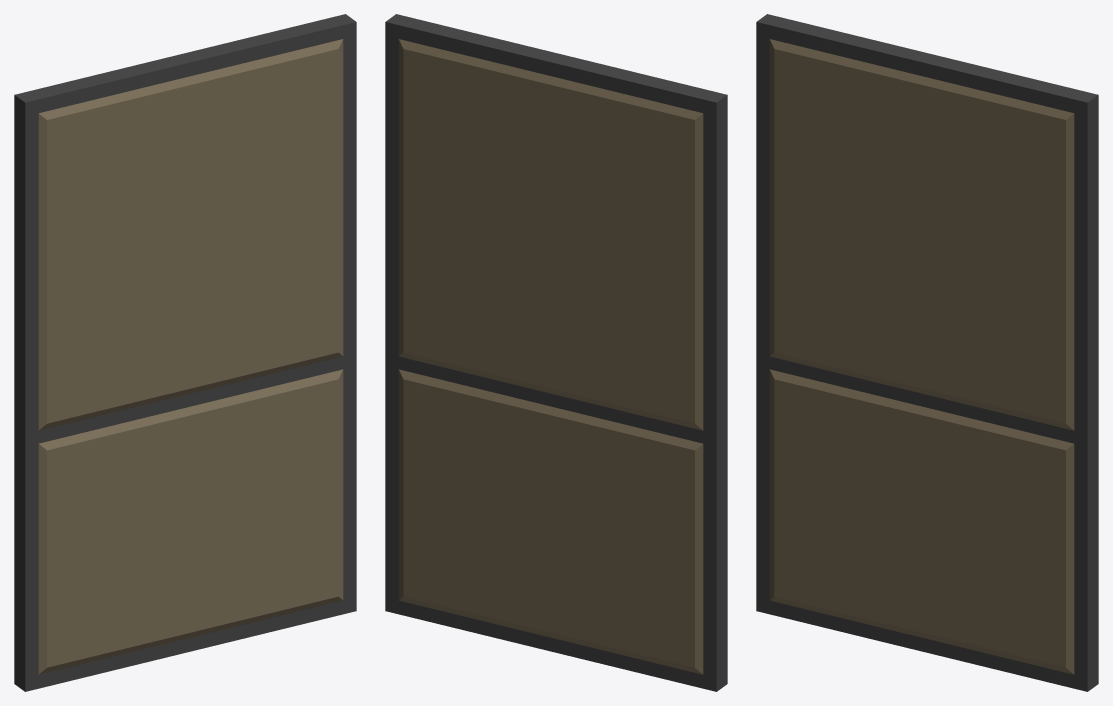
Rendered from Cubical_Wall_003.FBX.
3 renders of one model, left to right at view 1: azimuth 30°, elevation 25°; view 2: azimuth 150°, elevation 25°; view 3: azimuth 330°, elevation 25°, orthographic.
Parts seen in each view (by area): view 1: Cubical_Wall_003; view 2: Cubical_Wall_003; view 3: Cubical_Wall_003.
Part boxes in pixels (box(x1,y1,x2,y2)): Cubical_Wall_003: box(14, 14, 356, 691); Cubical_Wall_003: box(385, 14, 727, 691); Cubical_Wall_003: box(756, 14, 1098, 691).
Size of the model in its own units: 1 by 1.7 by 0.0764.
